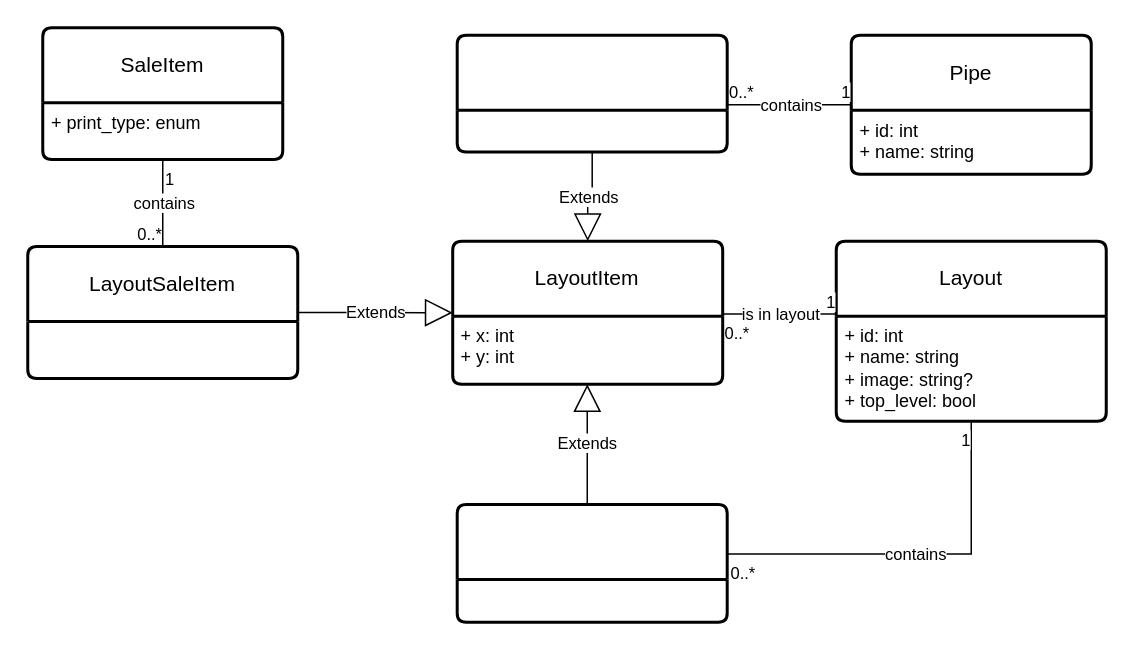
This 1133x650 diagram has some shape labels left out. Each missing label, with the centre of its shape:
"LayoutLink" goes at pixel 591 562.
"LayoutPipe" goes at pixel 591 93.
